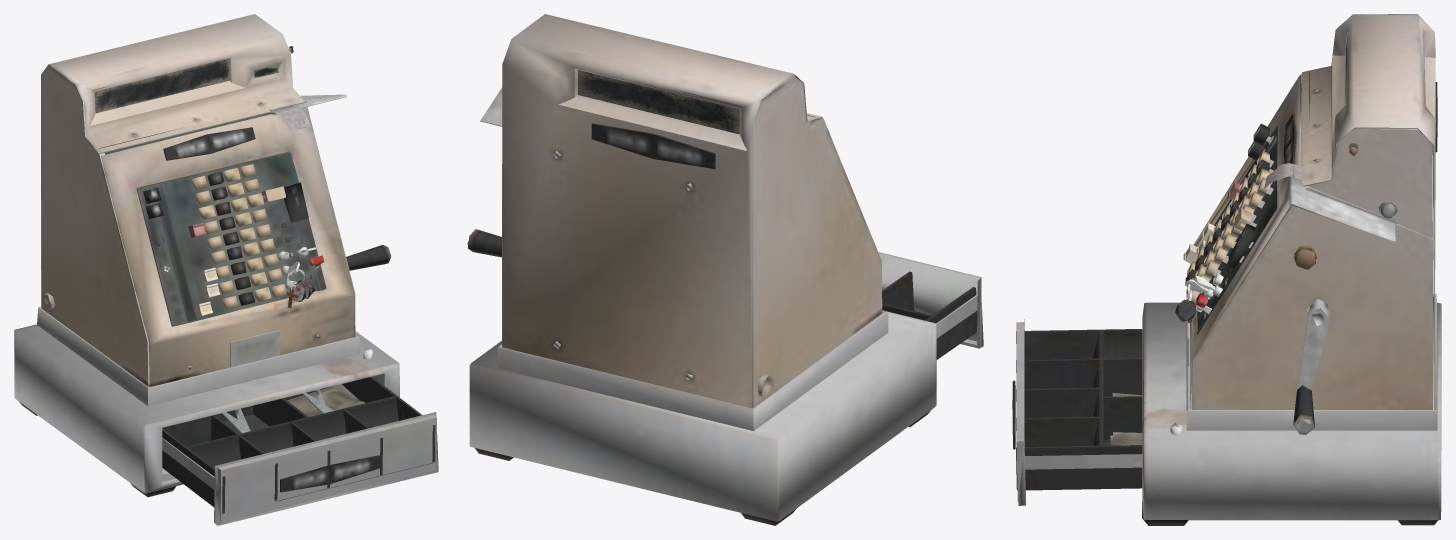
The model's file is CashRegister_01.gltf.
3 renders of one model, left to right at view 1: azimuth 30°, elevation 25°; view 2: azimuth 150°, elevation 25°; view 3: azimuth 270°, elevation 25°, orthographic. The views are drawn at different scales.
Visible parts, largest first — view 1: CashRegister_01_body, CashRegister_011_drawer; view 2: CashRegister_01_body, CashRegister_011_drawer; view 3: CashRegister_01_body, CashRegister_011_drawer.
Boxes of the visible parts, <box> form: CashRegister_01_body: <box>14,14,399,497</box>; CashRegister_011_drawer: <box>162,376,438,525</box>; CashRegister_01_body: <box>467,14,936,525</box>; CashRegister_011_drawer: <box>878,252,983,359</box>; CashRegister_01_body: <box>1142,14,1441,525</box>; CashRegister_011_drawer: <box>1012,319,1142,505</box>.
Size of the model in its own units: 0.5941 by 0.6197 by 0.6227.
Materials: 2 (2 with a texture image).
